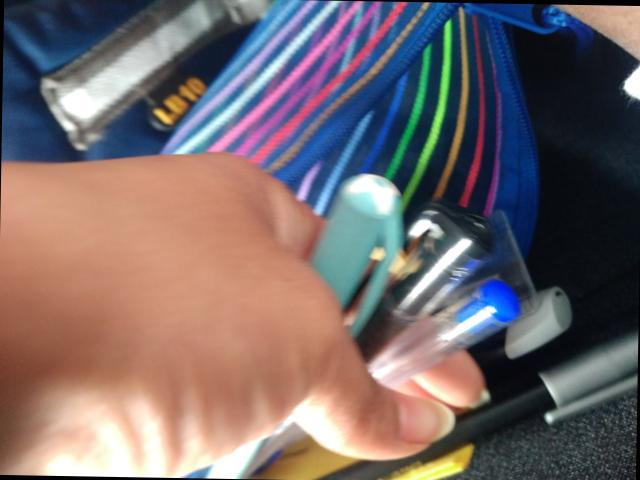PEN: (94, 268, 301, 480)
